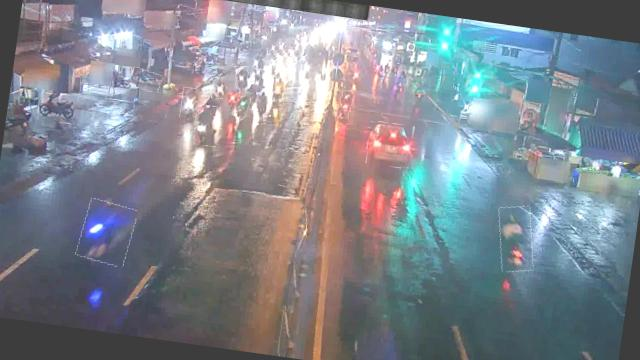Bike: (76, 198, 136, 268), (492, 204, 538, 274), (36, 92, 78, 124), (192, 103, 221, 148), (128, 67, 162, 92), (180, 86, 198, 120), (232, 90, 252, 120), (253, 89, 271, 121), (268, 75, 286, 106), (232, 64, 250, 94), (336, 90, 354, 120), (222, 88, 243, 110), (208, 76, 225, 100), (250, 68, 266, 93)
Car: (364, 120, 414, 170)
